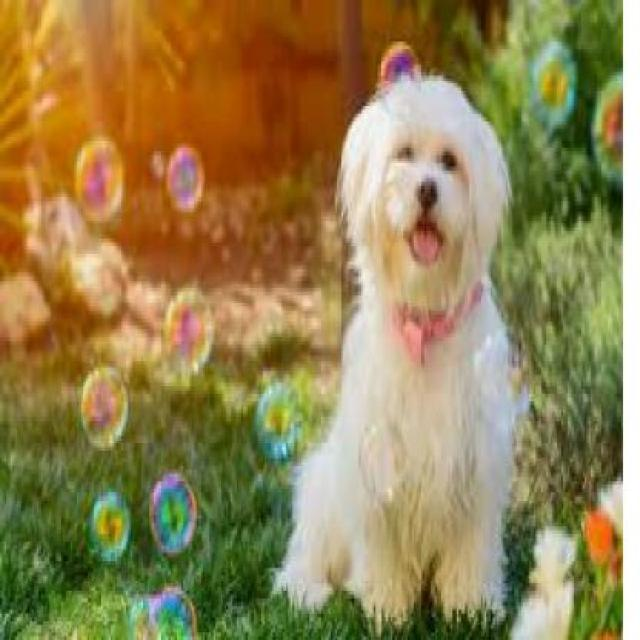Dog: (276, 69, 526, 631)
